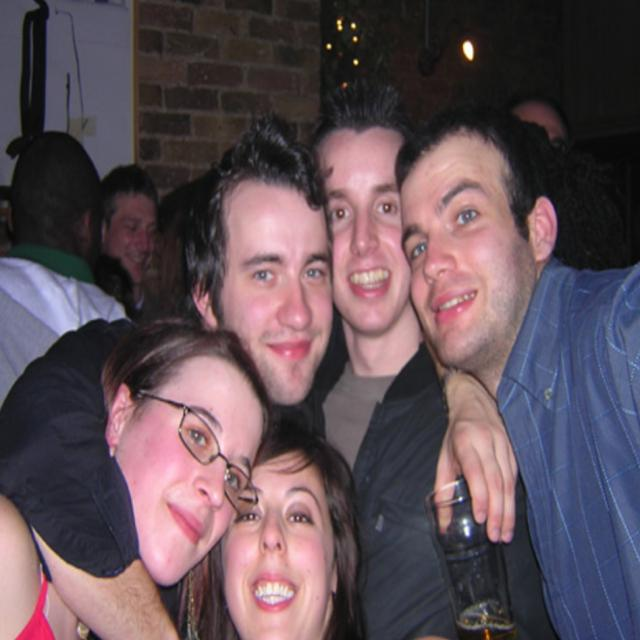Glasses: (135, 390, 256, 519)
